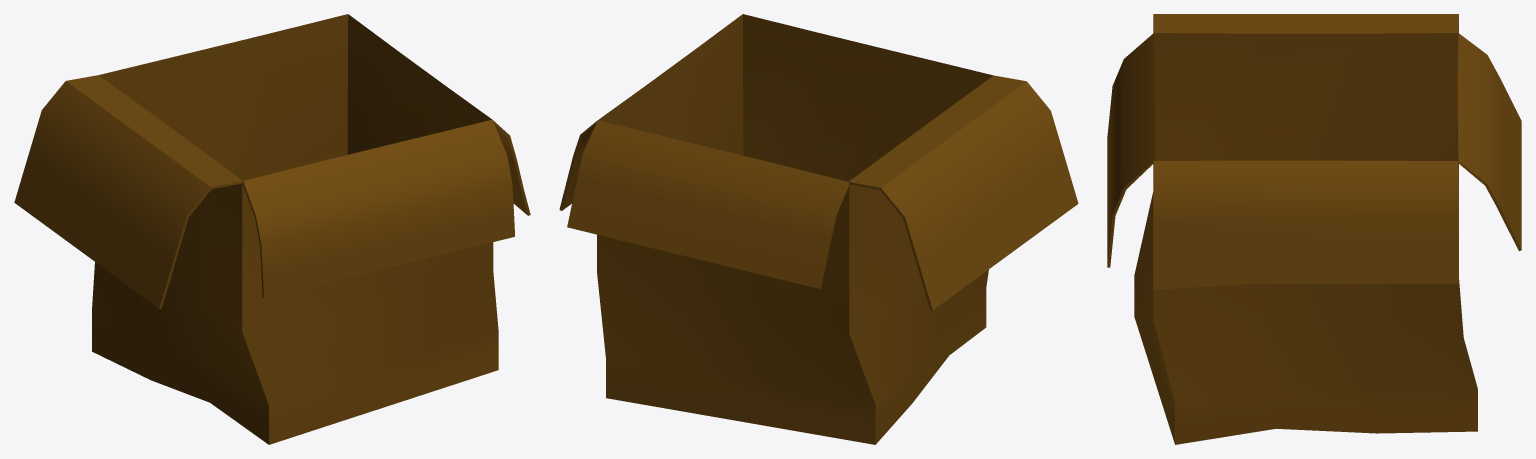
File: Caja_03.fbx
The picture shows the model from 3 angles, left to right: view 1: azimuth 30°, elevation 25°; view 2: azimuth 150°, elevation 25°; view 3: azimuth 270°, elevation 25°; orthographic projection. The views are drawn at different scales.
Parts seen in each view (by area): view 1: Caja_03; view 2: Caja_03; view 3: Caja_03.
Boxes of the visible parts, x1,y1,x2,y2 form: Caja_03: [14, 14, 530, 444]; Caja_03: [559, 14, 1078, 444]; Caja_03: [1107, 14, 1521, 444].
Size of the model in its own units: 118 by 80.81 by 108.
